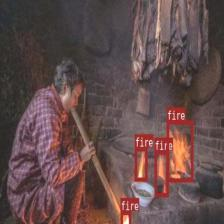fire: (166, 120, 193, 181), (154, 150, 168, 196), (134, 147, 146, 181), (120, 210, 131, 224)
